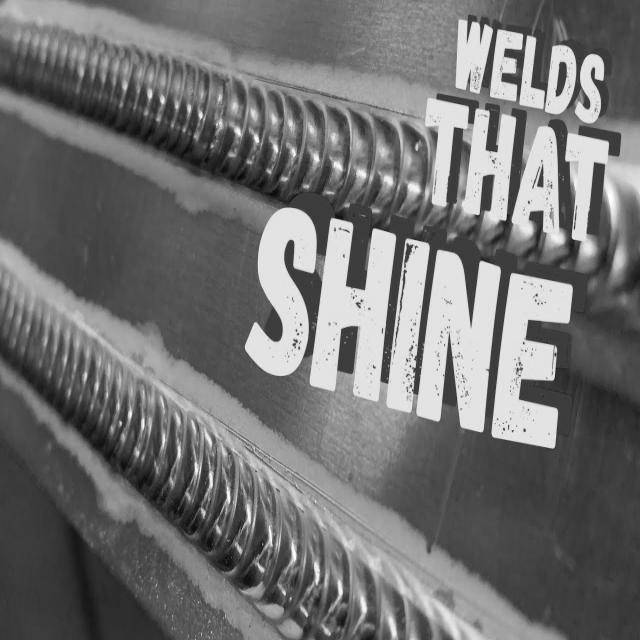Good Welding: (4, 280, 202, 550), (10, 19, 278, 177), (215, 436, 394, 640)
